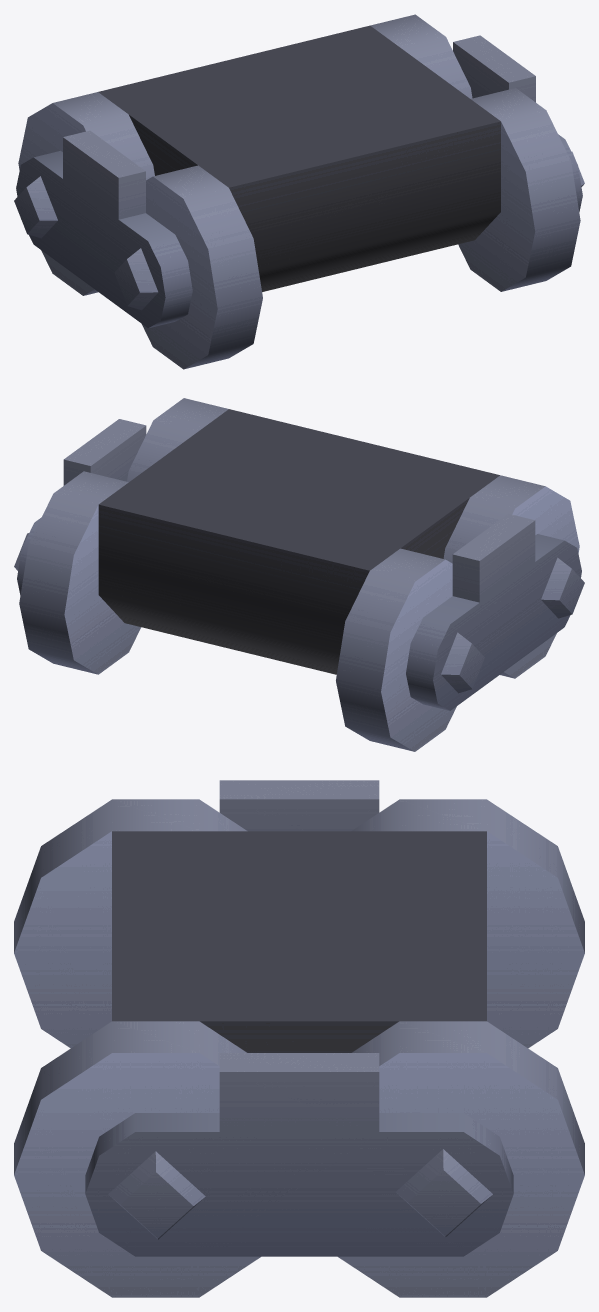
The model's file is wheels-back.003_lev2.glb.
3 renders of one model, top to bottom at view 1: azimuth 30°, elevation 25°; view 2: azimuth 150°, elevation 25°; view 3: azimuth 270°, elevation 25°, orthographic. The views are drawn at different scales.
Parts seen in each view (by area): view 1: wheels-back.003_lev2; view 2: wheels-back.003_lev2; view 3: wheels-back.003_lev2.
Part boxes in pixels (bbox=[...]): wheels-back.003_lev2: bbox=[14, 14, 584, 369]; wheels-back.003_lev2: bbox=[14, 398, 584, 751]; wheels-back.003_lev2: bbox=[14, 780, 584, 1297].
Bounding box in the file's own units: 0.983 × 0.3595 × 0.7612.
1 material, 1 textured.
